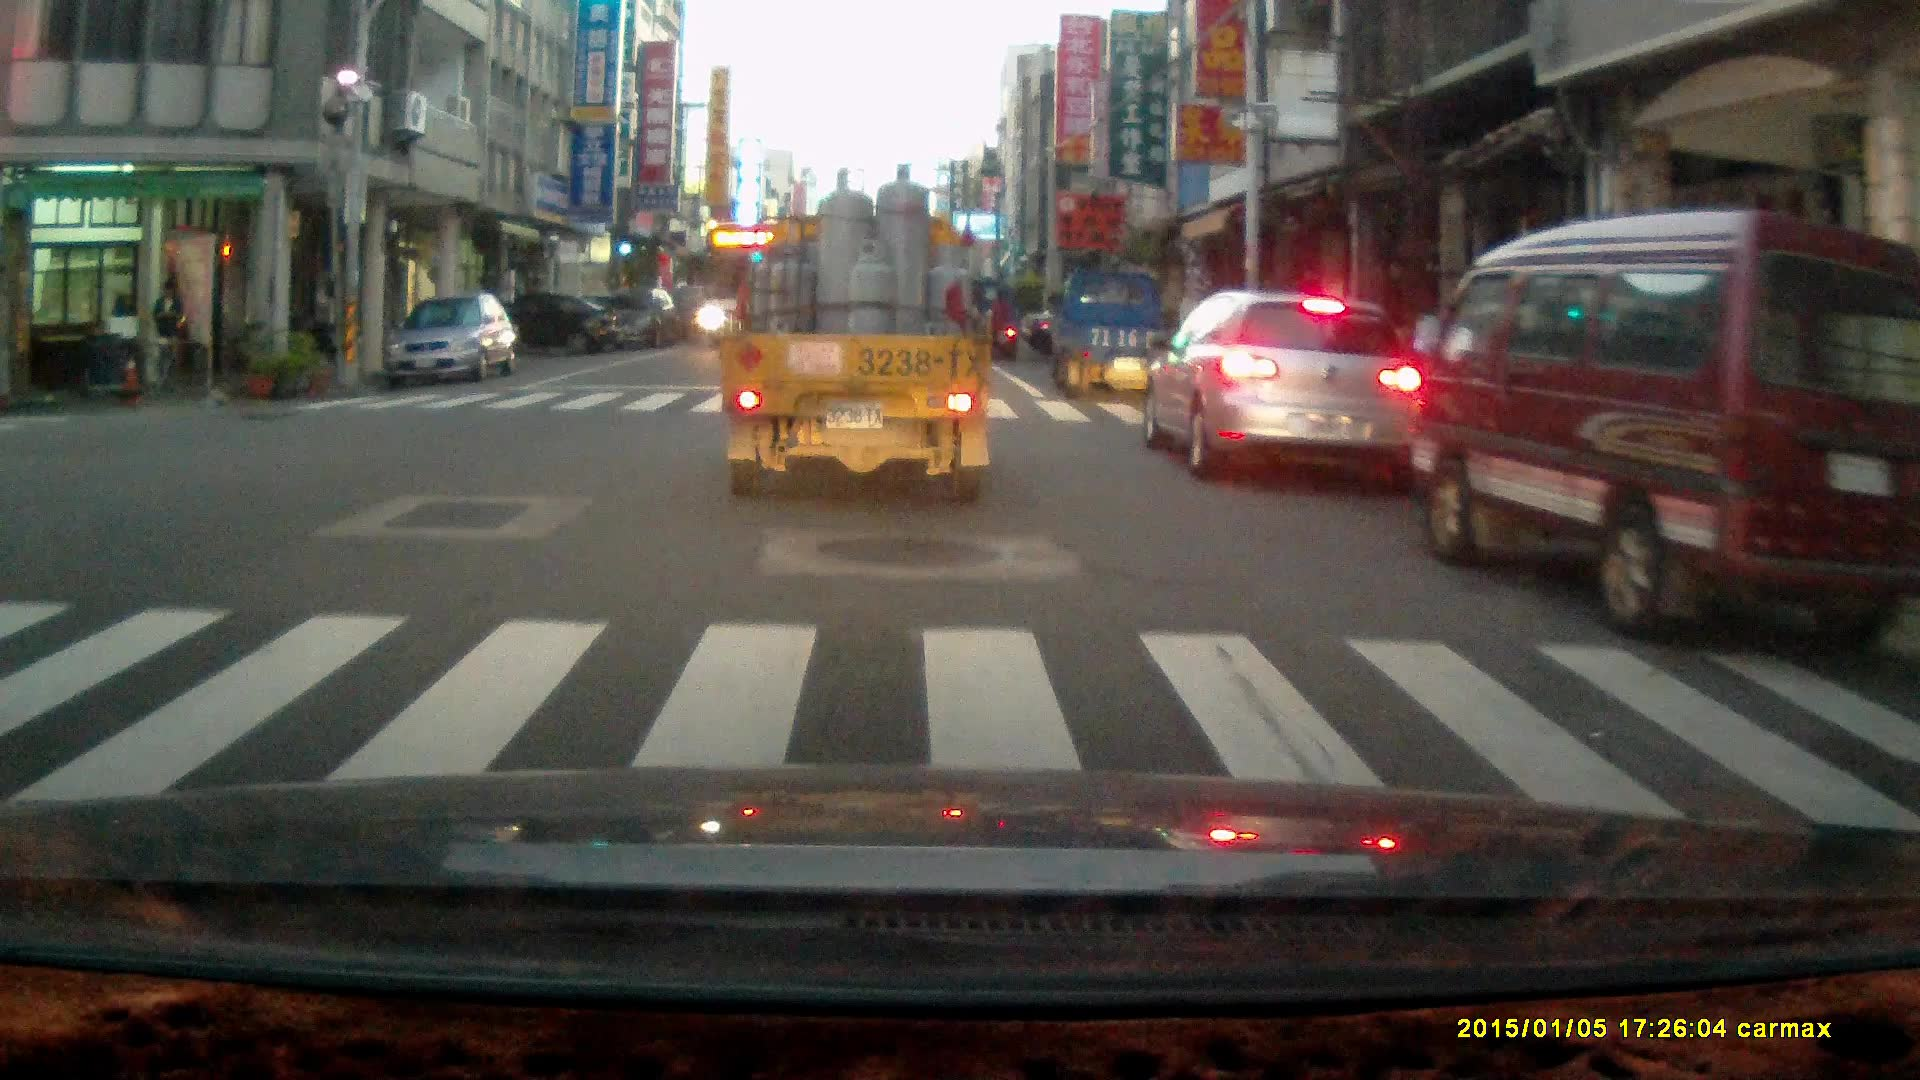pedestrian: (150, 275, 186, 397)
vehicle: (1412, 209, 1918, 650), (721, 167, 995, 509), (1144, 288, 1417, 490), (1051, 272, 1190, 410), (382, 293, 516, 386), (459, 294, 620, 363), (574, 288, 670, 350)
